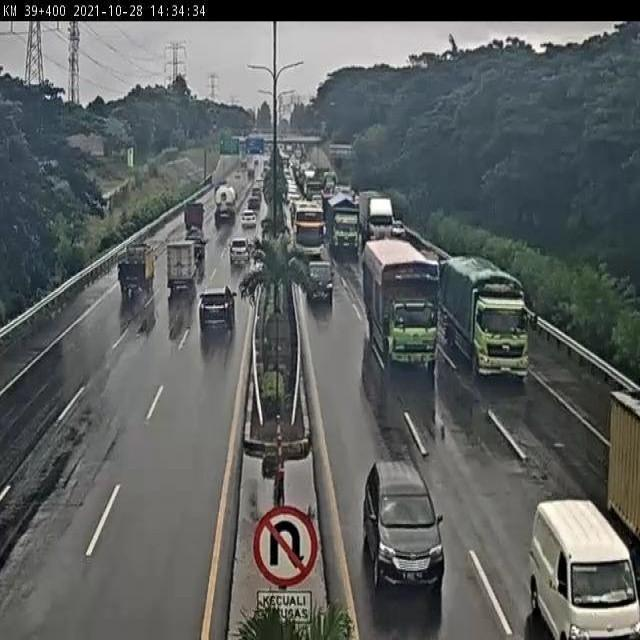big bus: (292, 203, 328, 268)
big truck: (444, 257, 534, 379), (362, 239, 441, 369), (325, 190, 361, 253), (359, 189, 397, 243)
car: (525, 497, 640, 640), (360, 457, 448, 592), (197, 283, 238, 337), (301, 256, 337, 305), (225, 241, 253, 276)
small truck: (117, 240, 160, 295), (166, 239, 205, 293), (180, 199, 206, 232)
